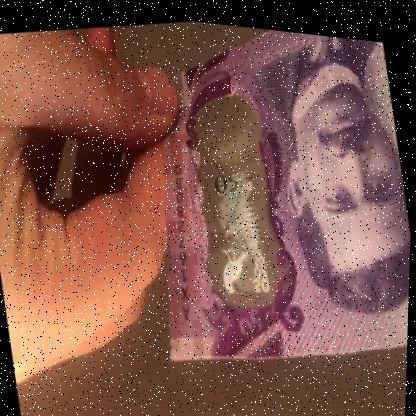50F: (194, 104, 284, 306)
